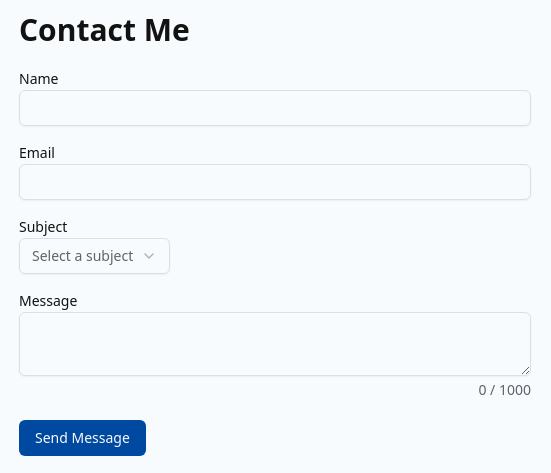
it: Epic 1 Story 3 — Contact Form: Submission Flow › Success state › hides the form fields after a successful API response
This screenshot has width=551, height=473.
Type "Jane Smith" into the field labelled "Name" at x=275, y=108, box [19,90,531,126]
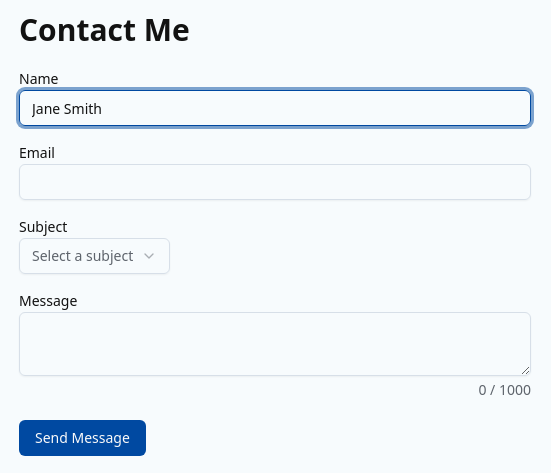
Type "jane@example.com" into the field labelled "Email" at x=275, y=182, box [19,164,531,200]
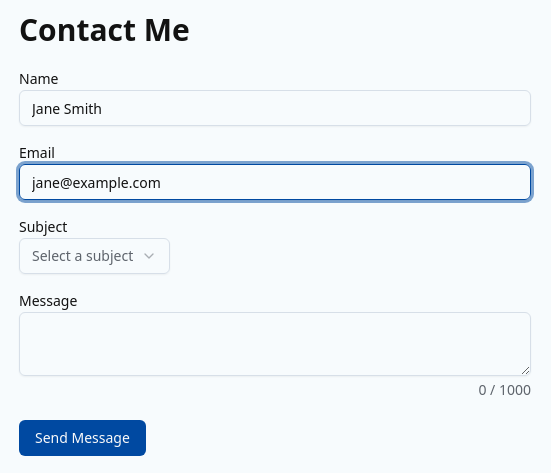
Click the dropdown labelled "Select a subject" at x=95, y=256, box [19,238,170,274]
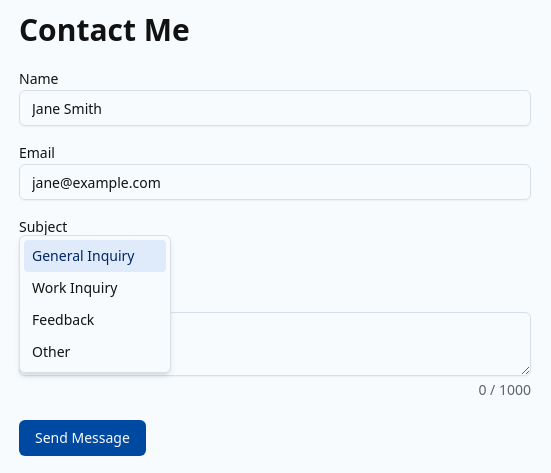
Click the option "General Inquiry" at x=95, y=256, box [24,240,166,272]
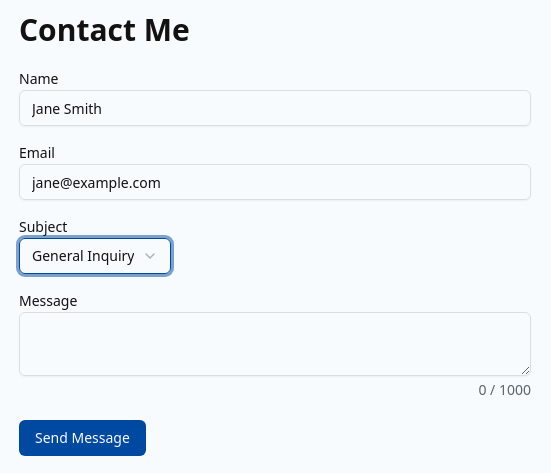
Type "Hello, this is a test message that is long enough." into the text box labelled "Message" at x=275, y=344, box [19,312,531,376]
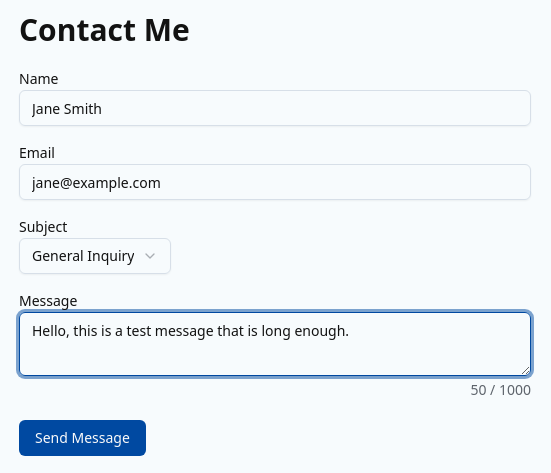
Click the button "Send Message" at x=82, y=438, box [19,420,146,456]
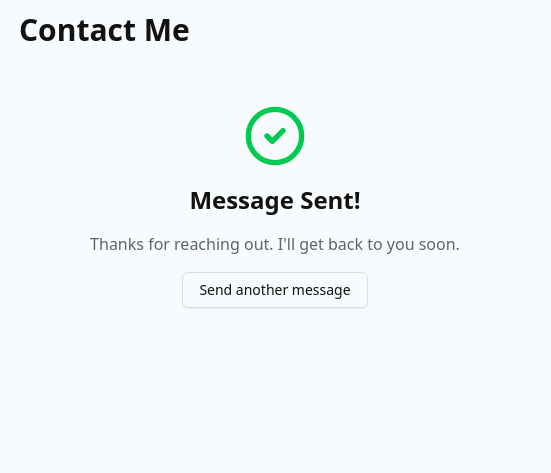
Expected: the label labelled "Name" is gone
Expected: the label labelled "Email" is gone
